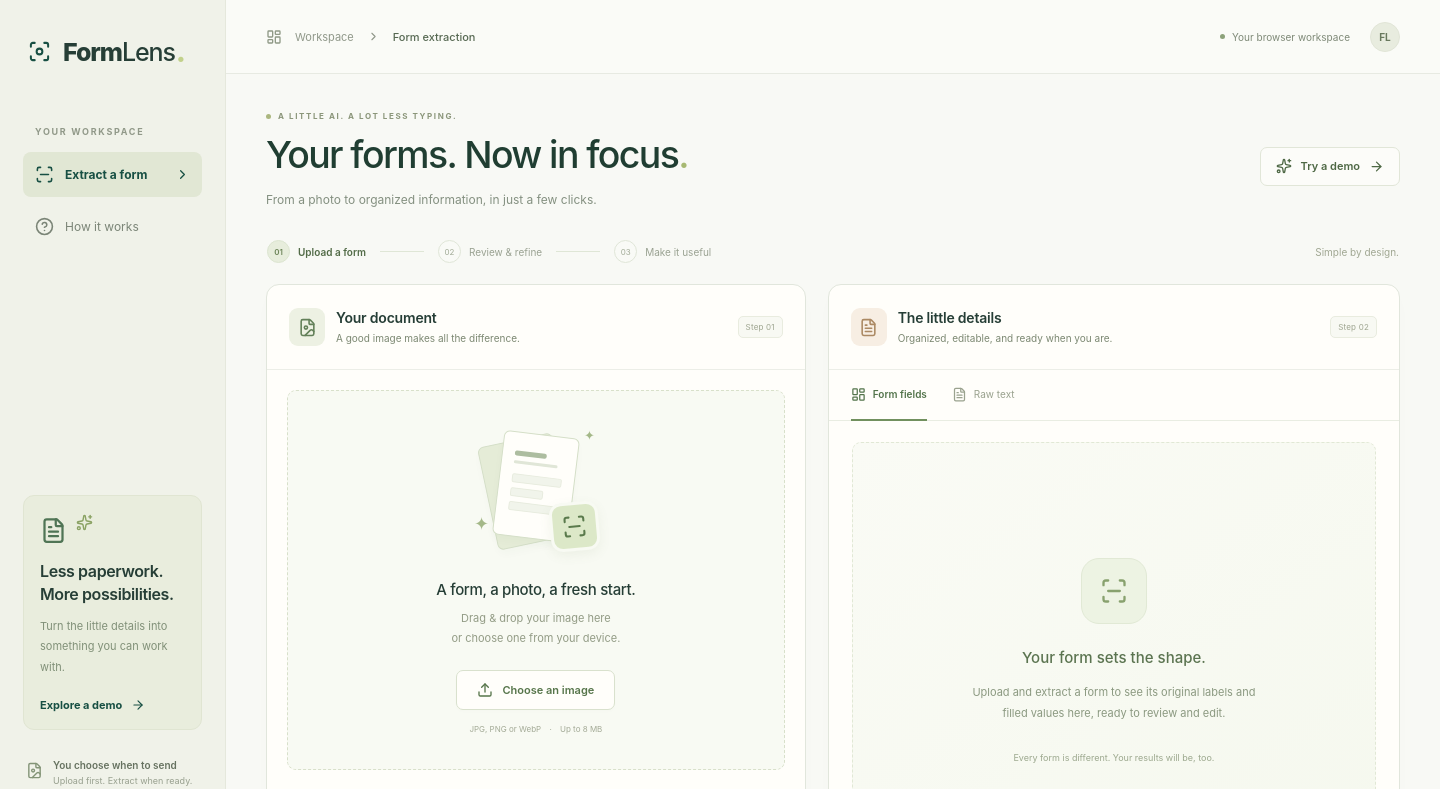
Test: FormLens user flow with Puter OCR › demo is local and does not contact Puter
Click the button "Try a demo". click: (1330, 166)
box: [1260,146,1400,186]
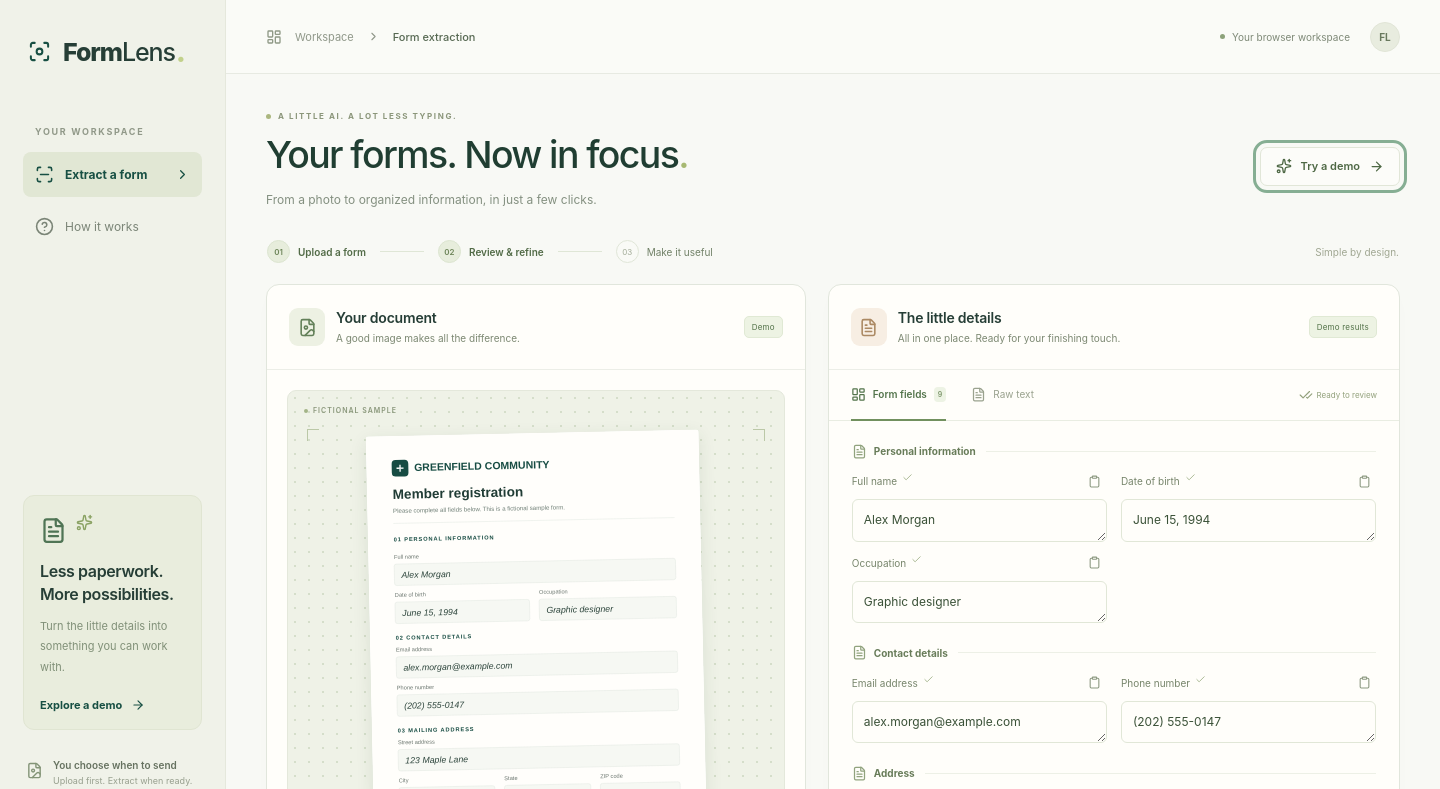
Result: the text box labelled "Full name" holds "Alex Morgan" at [852,499,1107,542]
